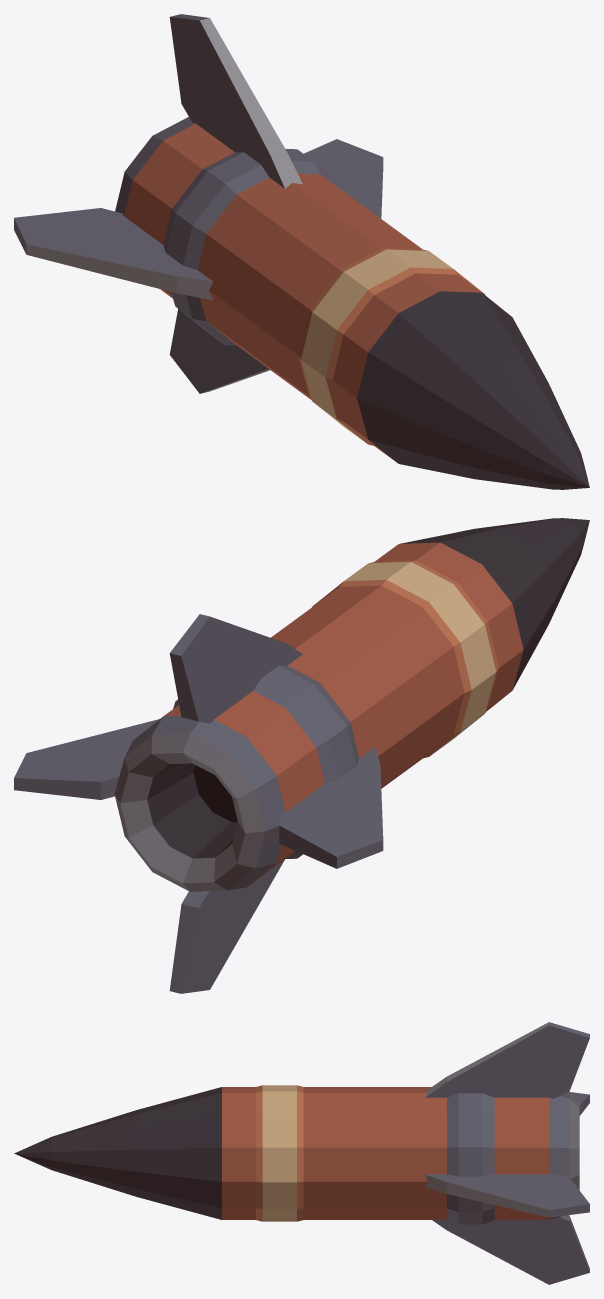
Rendered from missile.glb.
The picture shows the model from 3 angles, top to bottom: view 1: azimuth 30°, elevation 25°; view 2: azimuth 150°, elevation 25°; view 3: azimuth 270°, elevation 25°; orthographic projection. The views are drawn at different scales.
Visible parts, largest first — view 1: MISSILE_POOLED; view 2: MISSILE_POOLED; view 3: MISSILE_POOLED.
Part boxes in pixels (bbox=[...]): MISSILE_POOLED: bbox=[14, 14, 589, 489]; MISSILE_POOLED: bbox=[14, 518, 589, 993]; MISSILE_POOLED: bbox=[14, 1022, 589, 1284].
Size of the model in its own units: 0.84 by 0.84 by 1.69.
